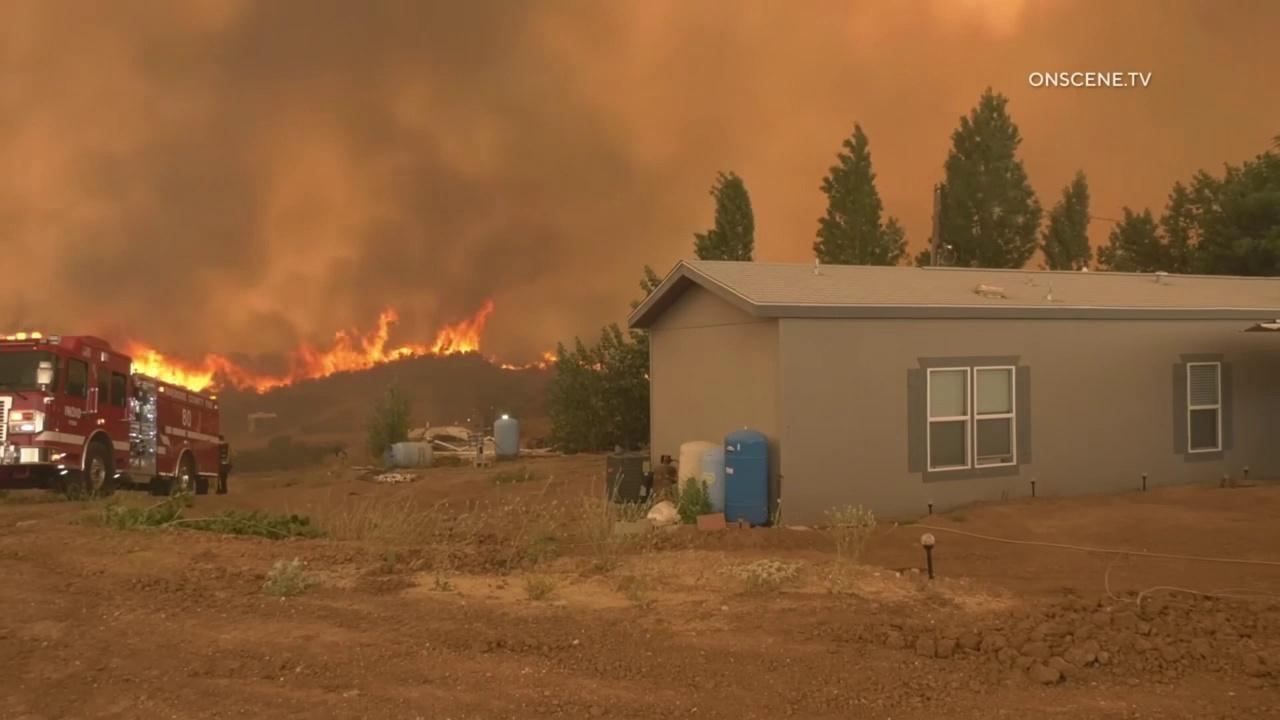fire: (122, 300, 494, 393), (499, 348, 558, 372), (586, 364, 598, 371), (577, 360, 584, 365)
smoke: (0, 0, 1280, 340)
